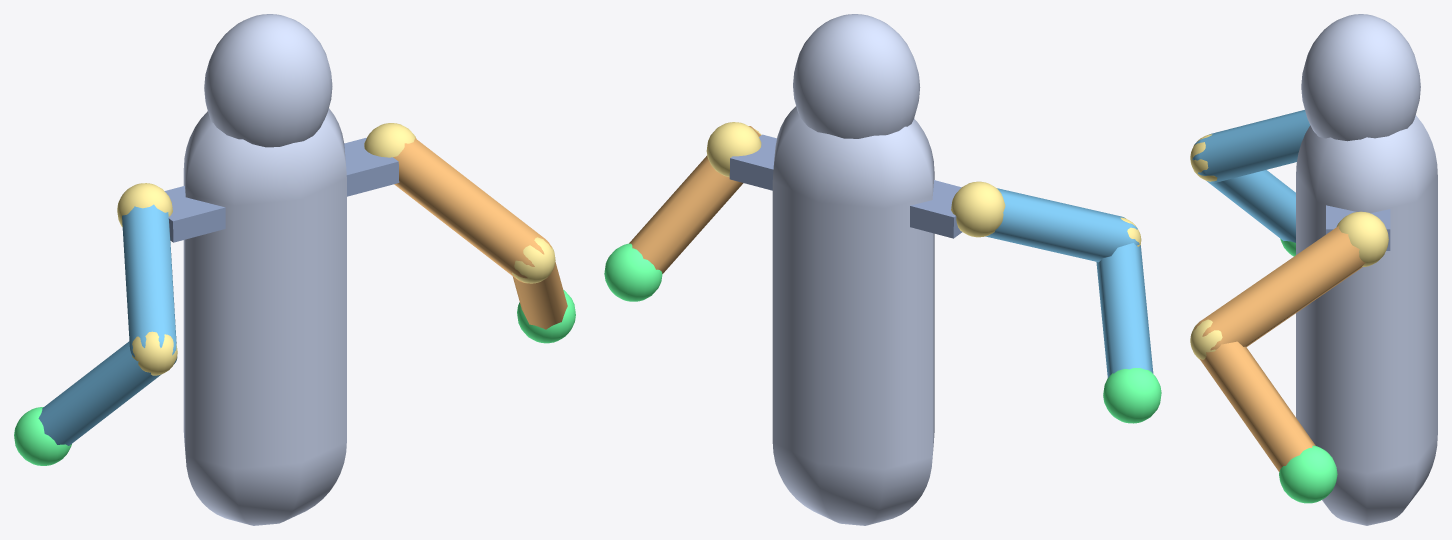
File: phone-animation-lab-capsule-v1.glb
3 views of the same model, side by side, from view 1: azimuth 30°, elevation 25°; view 2: azimuth 150°, elevation 25°; view 3: azimuth 270°, elevation 25° (orthographic).
Parts seen in each view (by area): view 1: BodyCapsule, Head, right_upperArm, left_upperArm, left_forearm, Phone Animation Lab Capsule Figure, right_forearm, left_hand, left_elbow, right_shoulder, left_shoulder, right_elbow (+1 smaller); view 2: BodyCapsule, Head, left_upperArm, left_forearm, right_forearm, Phone Animation Lab Capsule Figure, left_hand, right_hand, left_shoulder, right_shoulder; view 3: BodyCapsule, Head, right_upperArm, right_forearm, left_upperArm, left_forearm, right_hand, right_shoulder, right_elbow, Phone Animation Lab Capsule Figure, left_elbow.
Part boxes in pixels (x1=…): BodyCapsule: x1=183, y1=108, x2=346, y2=525; Head: x1=204, y1=14, x2=332, y2=147; right_upperArm: x1=393, y1=138, x2=551, y2=283; left_upperArm: x1=122, y1=204, x2=177, y2=363; left_forearm: x1=38, y1=341, x2=161, y2=445; Phone Animation Lab Capsule Figure: x1=164, y1=138, x2=399, y2=242; right_forearm: x1=512, y1=262, x2=567, y2=329; left_hand: x1=14, y1=407, x2=71, y2=465; left_elbow: x1=132, y1=331, x2=177, y2=375; right_shoulder: x1=364, y1=123, x2=416, y2=157; left_shoulder: x1=117, y1=183, x2=172, y2=226; right_elbow: x1=512, y1=237, x2=555, y2=283; BodyCapsule: x1=772, y1=106, x2=934, y2=525; Head: x1=793, y1=14, x2=920, y2=138; left_upperArm: x1=985, y1=188, x2=1139, y2=262; left_forearm: x1=1096, y1=243, x2=1153, y2=377; right_forearm: x1=629, y1=155, x2=743, y2=273; Phone Animation Lab Capsule Figure: x1=729, y1=134, x2=962, y2=238; left_hand: x1=1103, y1=368, x2=1161, y2=423; right_hand: x1=604, y1=243, x2=662, y2=301; left_shoulder: x1=951, y1=181, x2=1005, y2=237; right_shoulder: x1=706, y1=122, x2=761, y2=177; BodyCapsule: x1=1296, y1=115, x2=1437, y2=525; Head: x1=1301, y1=14, x2=1420, y2=141; right_upperArm: x1=1194, y1=226, x2=1365, y2=350; right_forearm: x1=1199, y1=341, x2=1315, y2=471; left_upperArm: x1=1192, y1=110, x2=1309, y2=182; left_forearm: x1=1207, y1=170, x2=1295, y2=242; right_hand: x1=1279, y1=445, x2=1337, y2=503; right_shoulder: x1=1336, y1=211, x2=1388, y2=266; right_elbow: x1=1190, y1=319, x2=1222, y2=359; Phone Animation Lab Capsule Figure: x1=1326, y1=205, x2=1390, y2=250; left_elbow: x1=1190, y1=134, x2=1217, y2=181.
Bounding box in the file's own units: 2.16 × 1.87 × 0.8445.
